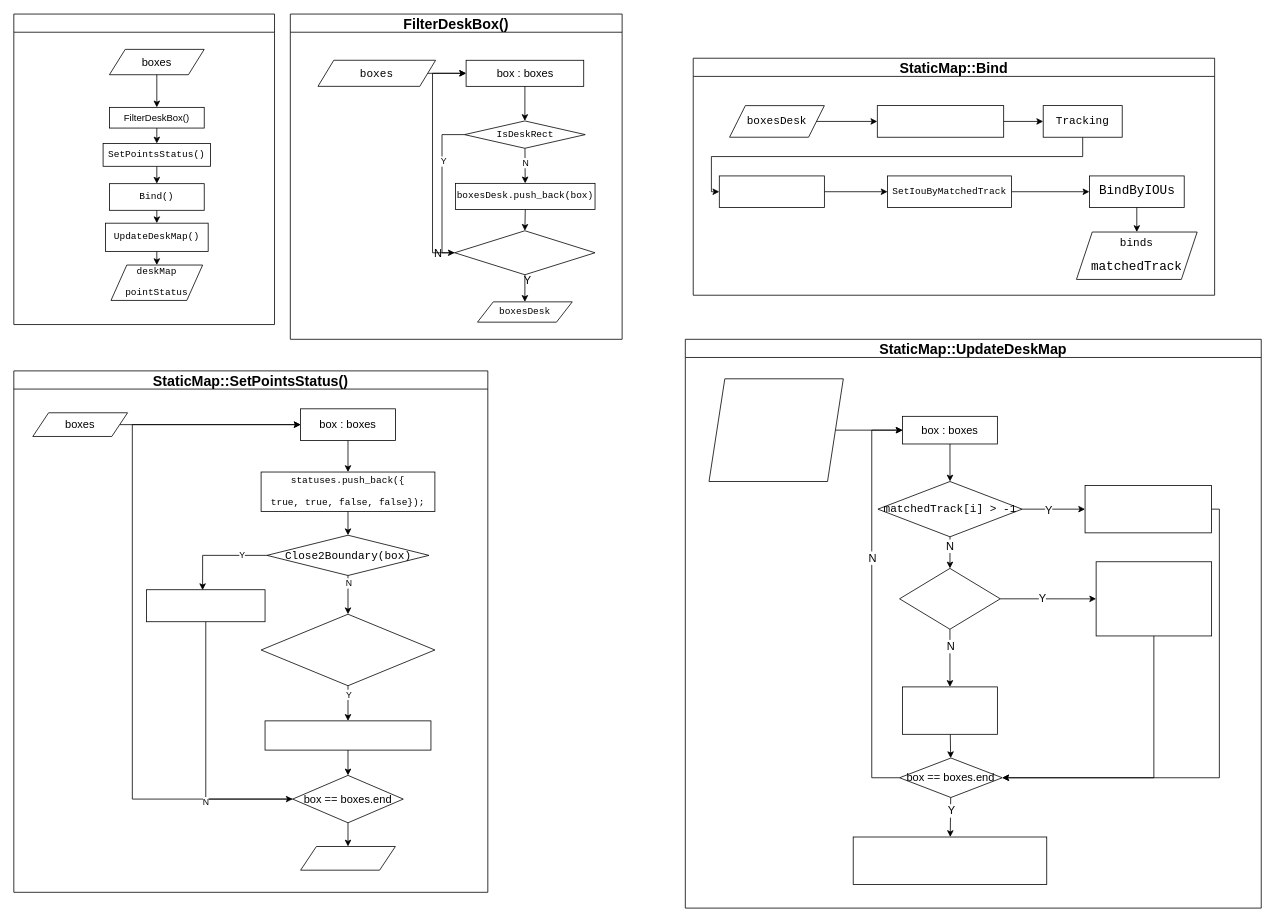
Image size: 1275x922. Some labels were removed from this diagram. Each missing label, with the centre of its shape:
"binds [ i ] > - 1" belongs at pixel 949 598.
"binds boxesDesk statuses matchedTrack" belongs at pixel 775 430.
"box == boxes.end()" belongs at pixel 524 252.
"BoxesObjectsIOU" belongs at pixel 940 121.
"distanceX > MAX_POINT_MACHINE" belongs at pixel 347 649.
"FreshDeskMap" belongs at pixel 144 169.
"GetMatchedByTrack" belongs at pixel 771 191.
"removeIDs updateIDs UpdateMapByBox" belongs at pixel 1153 598.
"StaticMap :: AddRegionMap" belongs at pixel 949 710.
"StaticMap :: RemoveByIDs StaticMap ::UpdateByIDs" belongs at pixel 949 860.
"StaticMap :: UpdateMapByBox" belongs at pixel 1147 509.
"status={false,false,false,false}" belongs at pixel 205 605.
"statuses" belongs at pixel 347 858.
"statuses [ i ][ j ] = false;" belongs at pixel 347 735.
